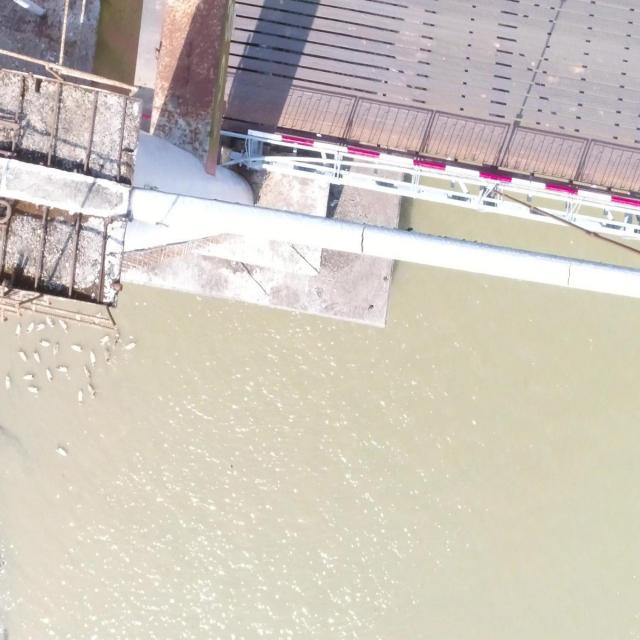crack: (360, 226, 367, 252), (567, 261, 572, 285)
